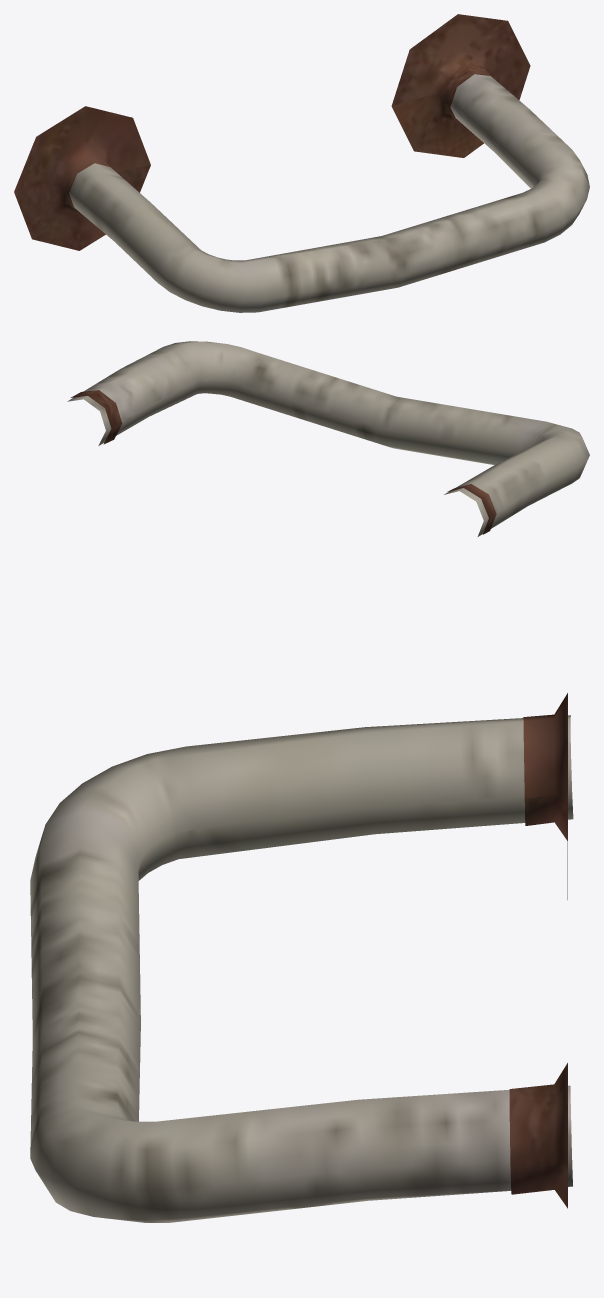
Rendered from hull_hook.glb.
3 views of the same model, one above another, from view 1: azimuth 30°, elevation 25°; view 2: azimuth 150°, elevation 25°; view 3: azimuth 270°, elevation 25° (orthographic). The views are drawn at different scales.
Parts seen in each view (by area): view 1: hull_hook_LOD0; view 2: hull_hook_LOD0; view 3: hull_hook_LOD0.
Part boxes in pixels (bbox=[...]): hull_hook_LOD0: bbox=[14, 14, 589, 312]; hull_hook_LOD0: bbox=[67, 341, 589, 536]; hull_hook_LOD0: bbox=[30, 693, 573, 1222].
Size of the model in its own units: 0.4336 by 0.1167 by 0.1979.
2 materials, 2 textured.
